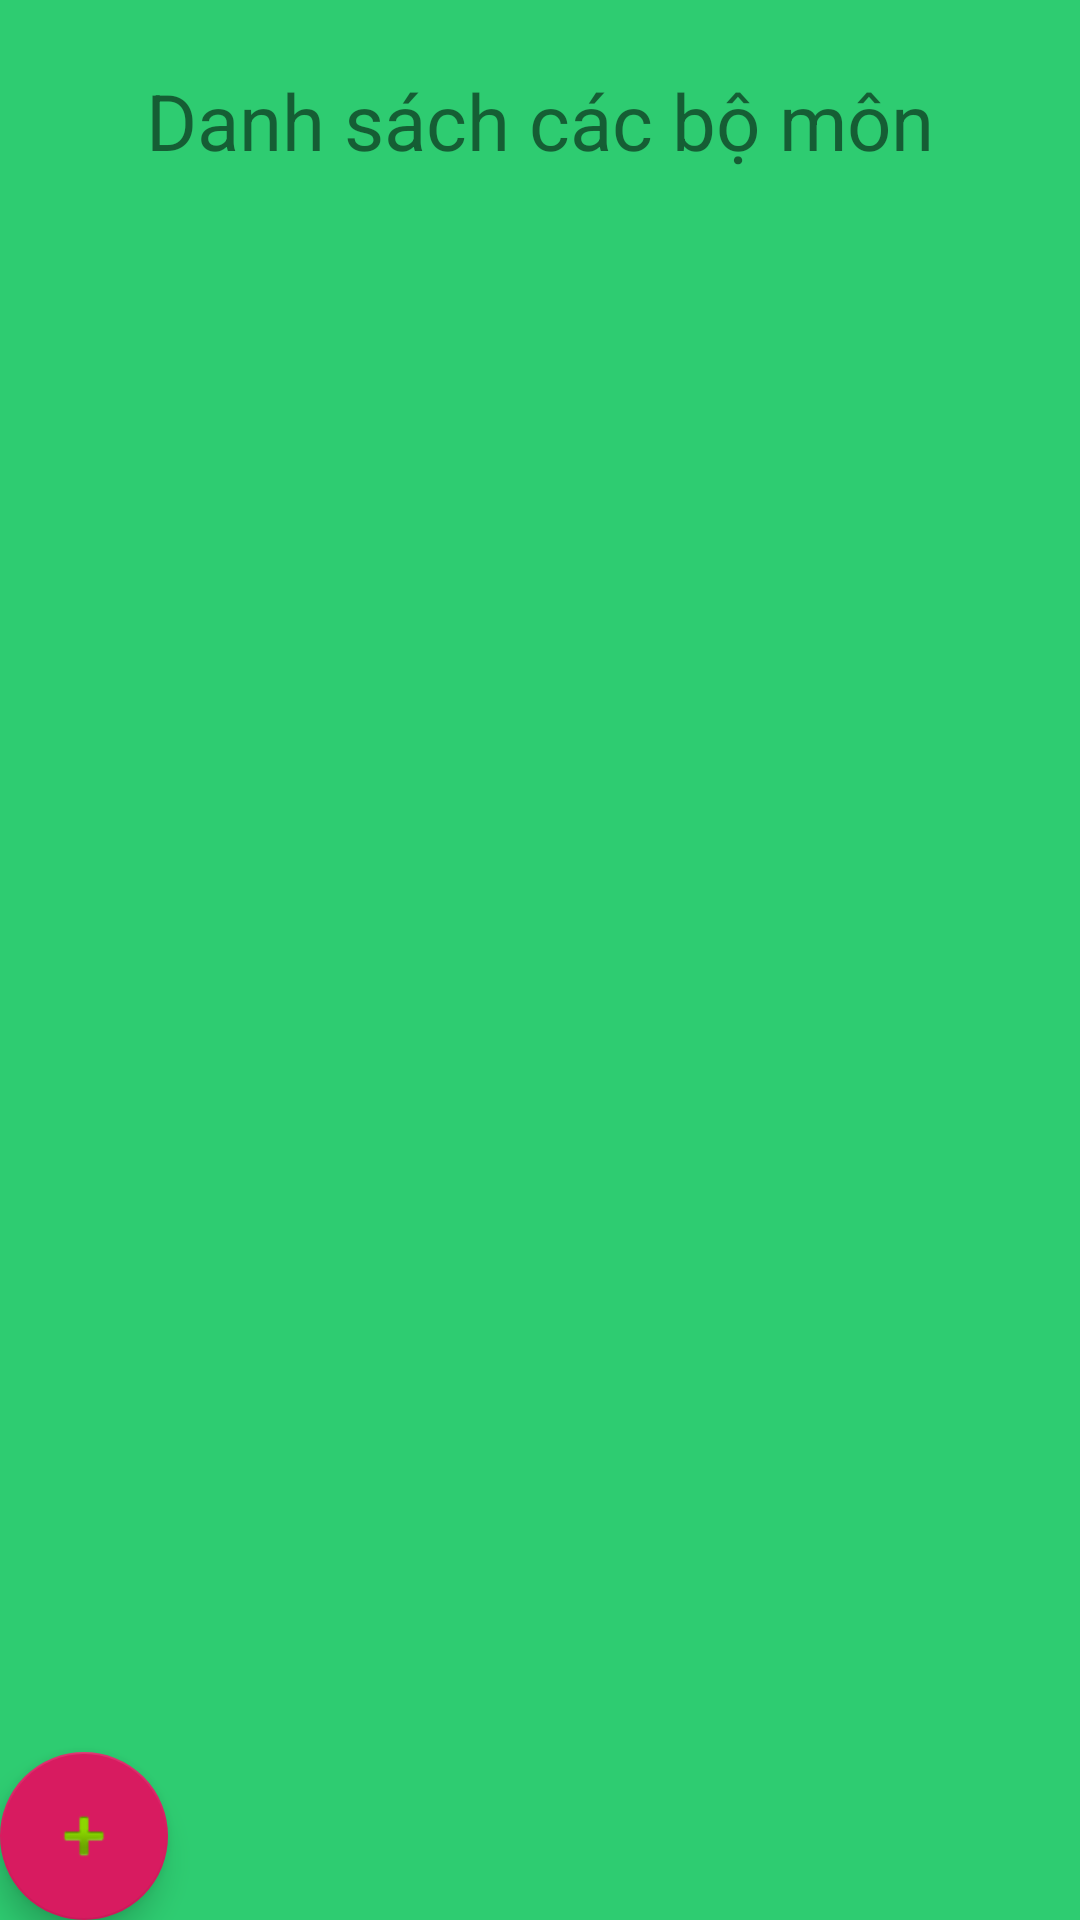

Screen size 1080×1920. Icon name, then its box in pixels as detection(x1, y1, x2, y2):
add: detection(0, 1752, 168, 1920)
